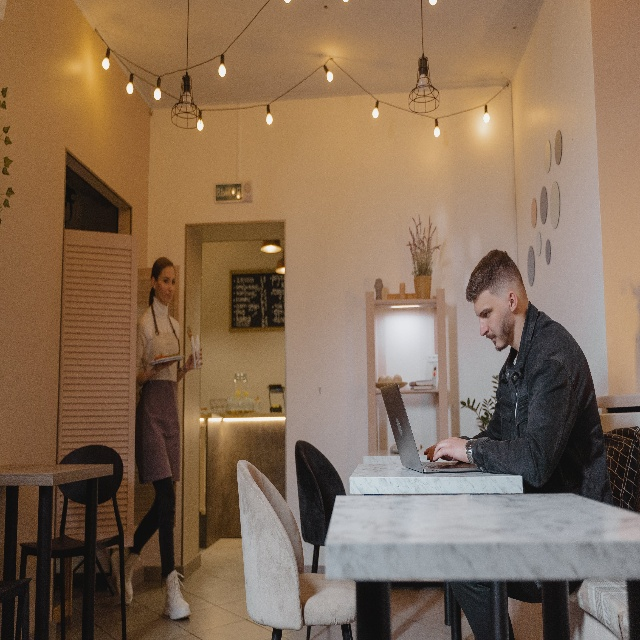Sin_guantes: (432, 436, 470, 463), (152, 359, 176, 374), (187, 348, 203, 369), (424, 442, 438, 462)
